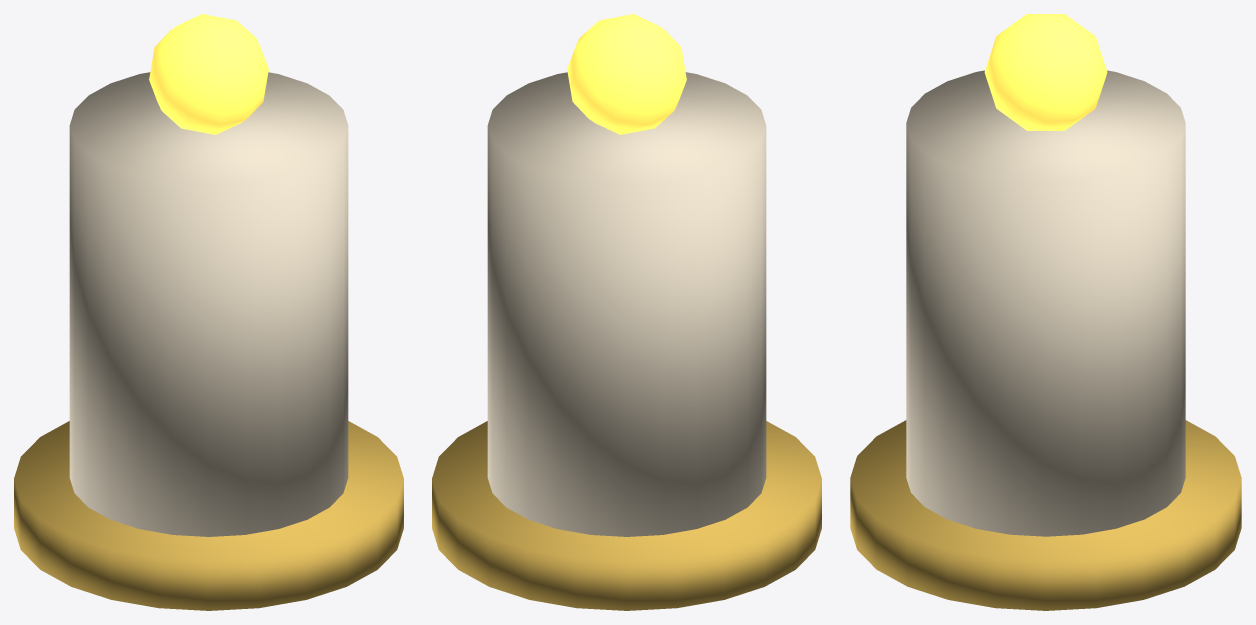
File: keepsake_candle.glb
3 renders of one model, left to right at view 1: azimuth 30°, elevation 25°; view 2: azimuth 150°, elevation 25°; view 3: azimuth 270°, elevation 25°, orthographic.
Visible parts, largest first — view 1: wax, holder, flame; view 2: wax, holder, flame; view 3: wax, holder, flame.
Part boxes in pixels (<box>): wax: <box>69,72,348,536</box>; holder: <box>14,421,403,610</box>; flame: <box>149,14,268,134</box>; wax: <box>487,72,766,536</box>; holder: <box>432,421,821,610</box>; flame: <box>567,14,686,134</box>; wax: <box>906,70,1185,536</box>; holder: <box>850,420,1241,610</box>; flame: <box>984,14,1107,130</box>.
Bounding box in the file's own units: 0.14 × 0.202 × 0.14.
